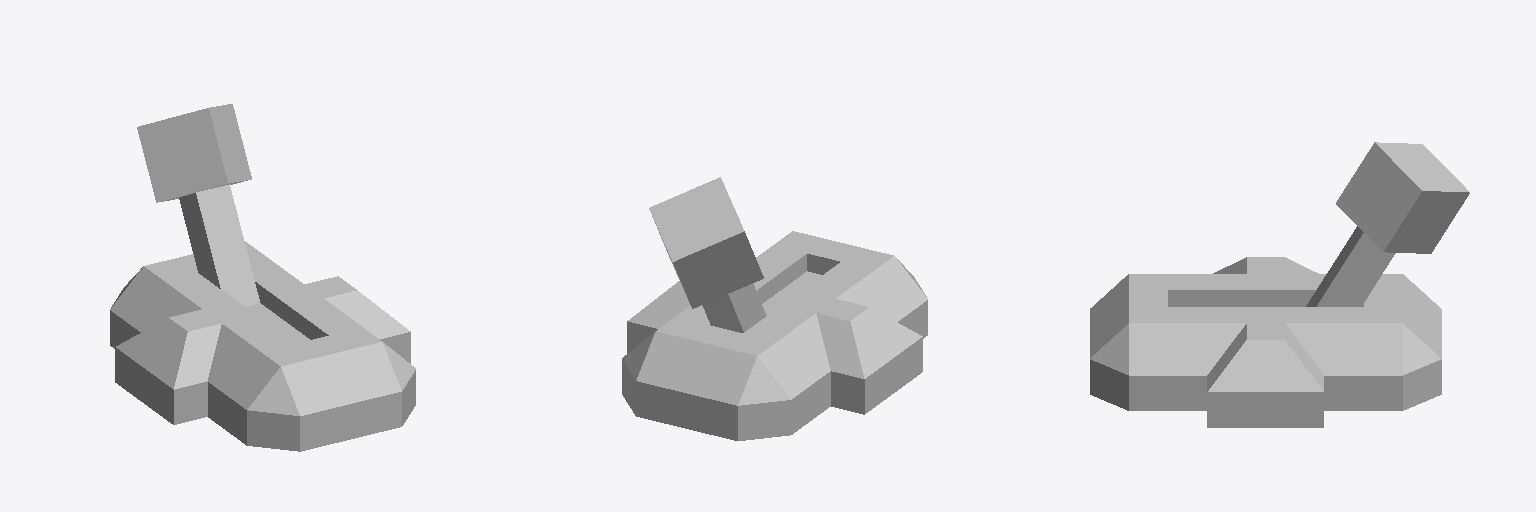
The model's file is lever_3state_2.obj.
The picture shows the model from 3 angles: view 1: azimuth 30°, elevation 25°; view 2: azimuth 150°, elevation 25°; view 3: azimuth 270°, elevation 25°; orthographic projection.
Parts seen in each view (by area): view 1: 3-STATE_Circle.002, LEVER_Cube.049; view 2: 3-STATE_Circle.002, LEVER_Cube.049; view 3: 3-STATE_Circle.002, LEVER_Cube.049.
Part boxes in pixels (left/top/right/bottom): 3-STATE_Circle.002: left=110, top=241, right=415, bottom=451; LEVER_Cube.049: left=137, top=104, right=259, bottom=306; 3-STATE_Circle.002: left=622, top=231, right=927, bottom=440; LEVER_Cube.049: left=649, top=177, right=766, bottom=332; 3-STATE_Circle.002: left=1090, top=257, right=1441, bottom=427; LEVER_Cube.049: left=1306, top=142, right=1469, bottom=306.
Size of the model in its own units: 0.4375 by 0.4002 by 0.6078.